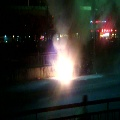fire: (54, 52, 73, 85)
